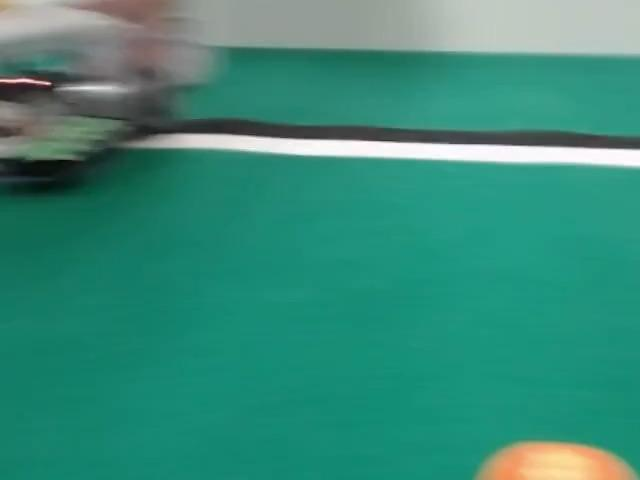Ball: (476, 442, 639, 479)
Robot: (0, 6, 207, 184)
